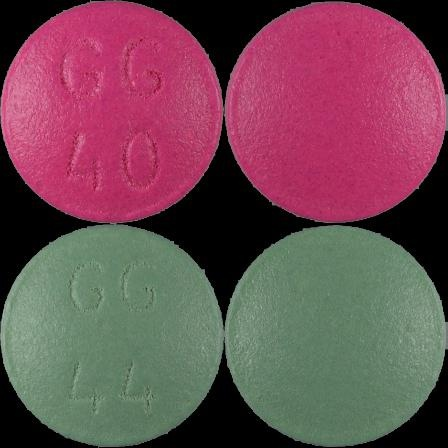54868-0064: (0, 0, 224, 224)
